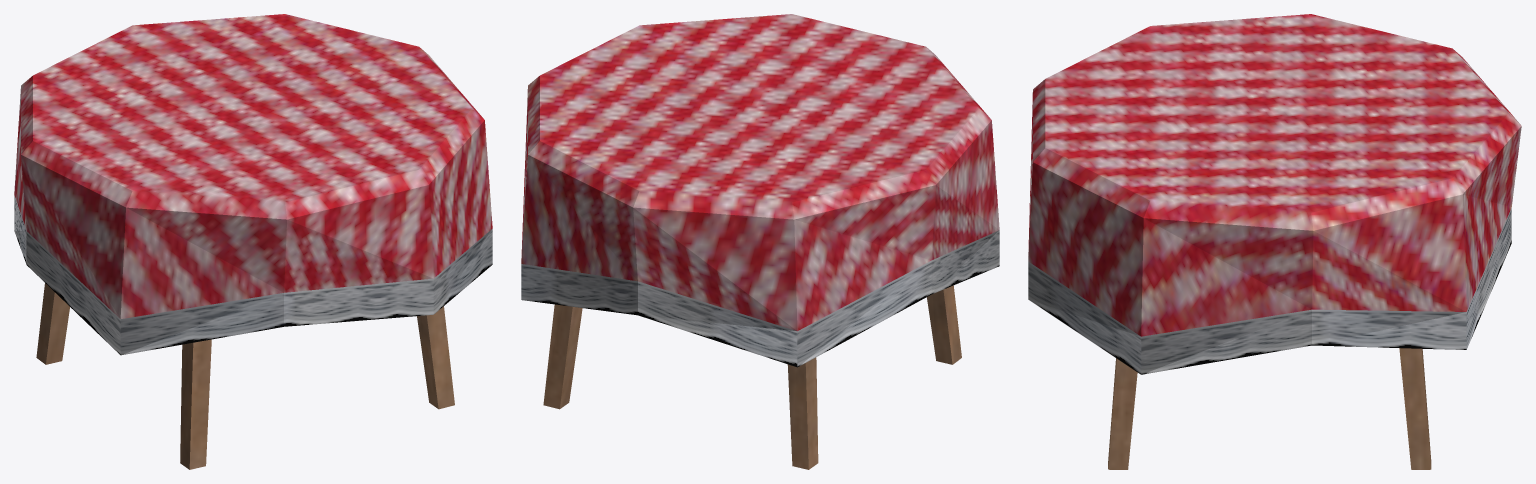
The model's file is mesa_d.glb.
3 views of the same model, side by side, from view 1: azimuth 30°, elevation 25°; view 2: azimuth 150°, elevation 25°; view 3: azimuth 270°, elevation 25° (orthographic). The views are drawn at different scales.
Parts seen in each view (by area): view 1: mesa_d; view 2: mesa_d; view 3: mesa_d.
Part boxes in pixels (x1=…): mesa_d: x1=14, y1=14, x2=492, y2=469; mesa_d: x1=521, y1=14, x2=999, y2=469; mesa_d: x1=1028, y1=14, x2=1521, y2=469.
Size of the model in its own units: 1.42 by 0.9079 by 1.41.
Materials: 1 (1 with a texture image).
